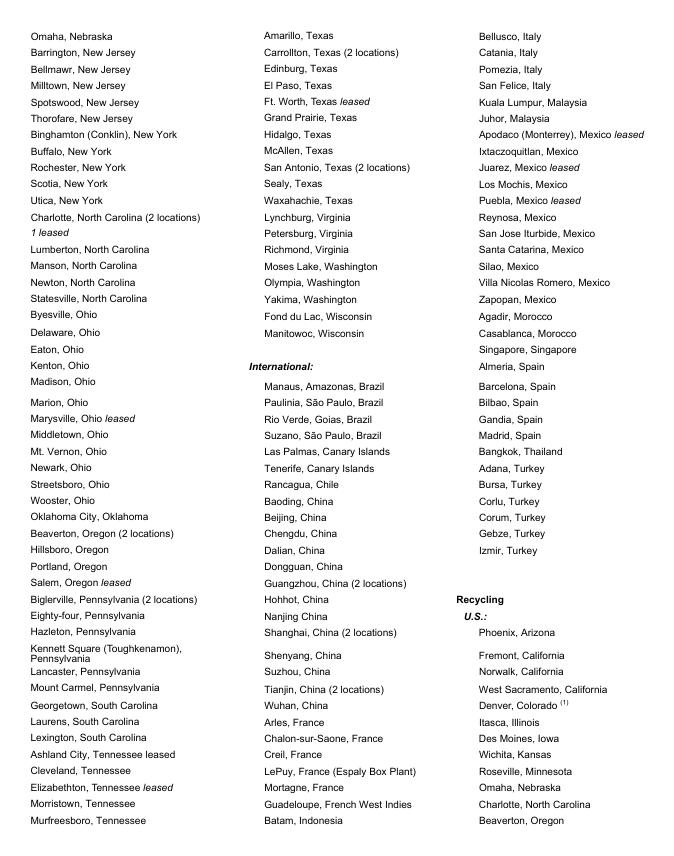table: (29, 29, 642, 825)
table column: (223, 29, 434, 825), (434, 29, 642, 825), (29, 29, 223, 825)
table column header: (29, 29, 642, 43)
table row: (29, 639, 642, 663), (29, 372, 642, 393), (29, 59, 642, 76), (29, 92, 642, 109), (29, 141, 642, 158), (29, 174, 642, 191), (29, 223, 642, 240), (29, 256, 642, 273), (29, 289, 642, 306), (29, 306, 642, 323), (29, 323, 642, 340), (29, 425, 642, 442), (29, 458, 642, 475), (29, 491, 642, 508), (29, 540, 642, 557), (29, 573, 642, 590), (29, 622, 642, 639), (29, 678, 642, 695), (29, 695, 642, 712), (29, 712, 642, 729), (29, 761, 642, 778), (29, 794, 642, 811), (29, 43, 642, 59), (29, 76, 642, 92), (29, 109, 642, 125), (29, 125, 642, 141), (29, 158, 642, 174), (29, 191, 642, 207), (29, 207, 642, 223), (29, 240, 642, 256), (29, 273, 642, 289), (29, 340, 642, 356), (29, 356, 642, 372), (29, 393, 642, 409), (29, 409, 642, 425), (29, 442, 642, 458), (29, 475, 642, 491), (29, 508, 642, 524), (29, 524, 642, 540), (29, 557, 642, 573), (29, 590, 642, 606), (29, 606, 642, 622), (29, 729, 642, 745), (29, 745, 642, 761), (29, 778, 642, 794), (29, 663, 642, 678), (29, 29, 642, 43), (29, 811, 642, 825)
